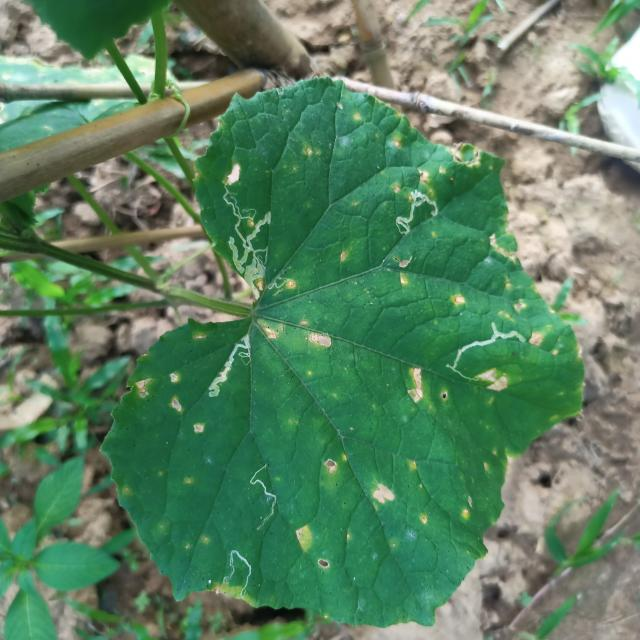disease_cucumber: (134, 372, 205, 444), (488, 235, 539, 323), (414, 144, 479, 182), (293, 524, 334, 576), (530, 325, 586, 363), (476, 365, 511, 399), (298, 320, 336, 348), (256, 316, 288, 344), (390, 256, 418, 288), (406, 365, 428, 405), (370, 480, 398, 508), (322, 451, 351, 478), (459, 493, 476, 522), (301, 145, 322, 158), (190, 330, 209, 344), (452, 292, 468, 308), (350, 112, 366, 128), (183, 475, 196, 488), (338, 250, 349, 264), (285, 278, 297, 290), (258, 280, 265, 293)
